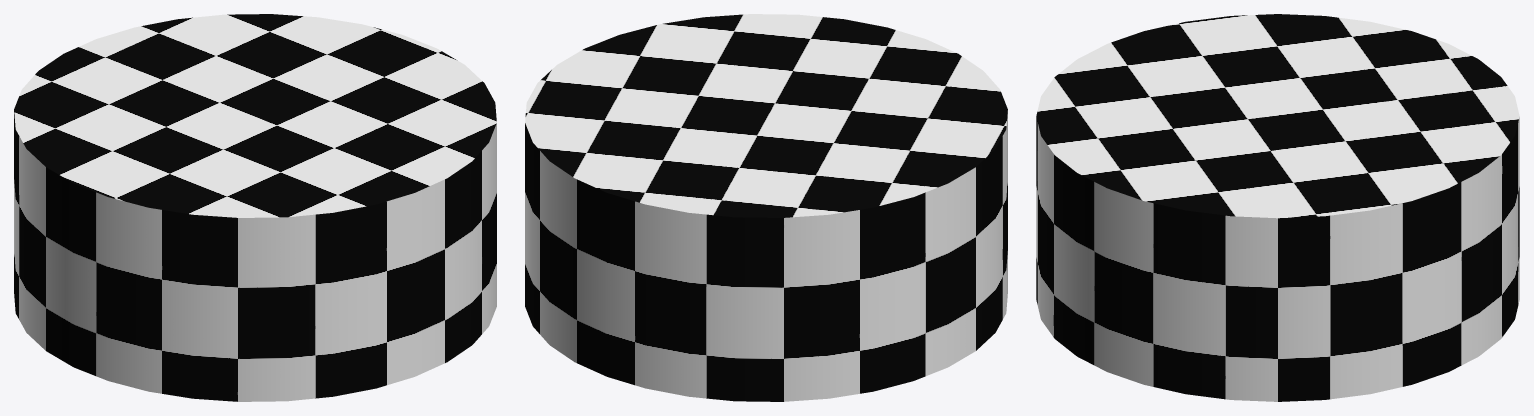
3 renders of one model, left to right at view 1: azimuth 30°, elevation 25°; view 2: azimuth 150°, elevation 25°; view 3: azimuth 270°, elevation 25°, orthographic.
Parts seen in each view (by area): view 1: Circle; view 2: Circle; view 3: Circle.
Boxes of the visible parts, bbox=[...] form: Circle: bbox=[14, 14, 496, 401]; Circle: bbox=[525, 14, 1007, 401]; Circle: bbox=[1036, 14, 1519, 401].
Bounding box in the file's own units: 98.3 × 41.24 × 98.3.
Materials: 1 (1 with a texture image).
